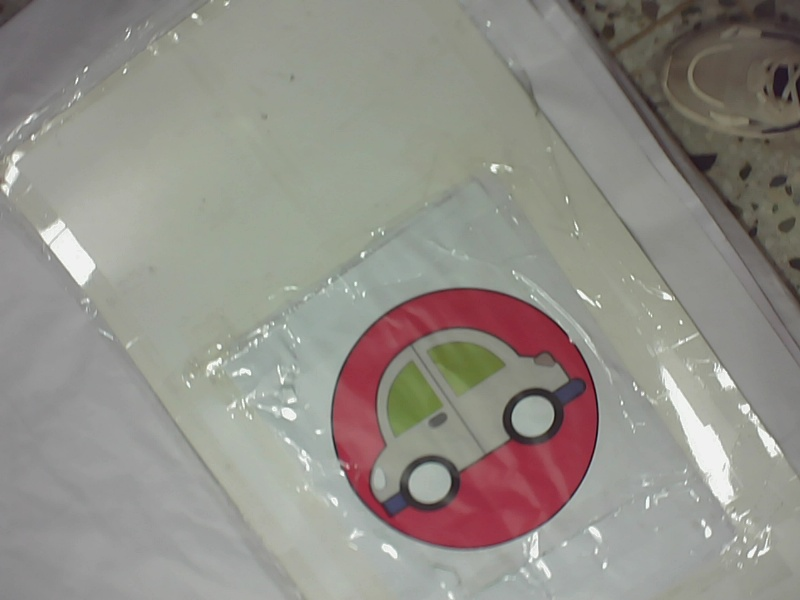areaC: (313, 291, 610, 553)
